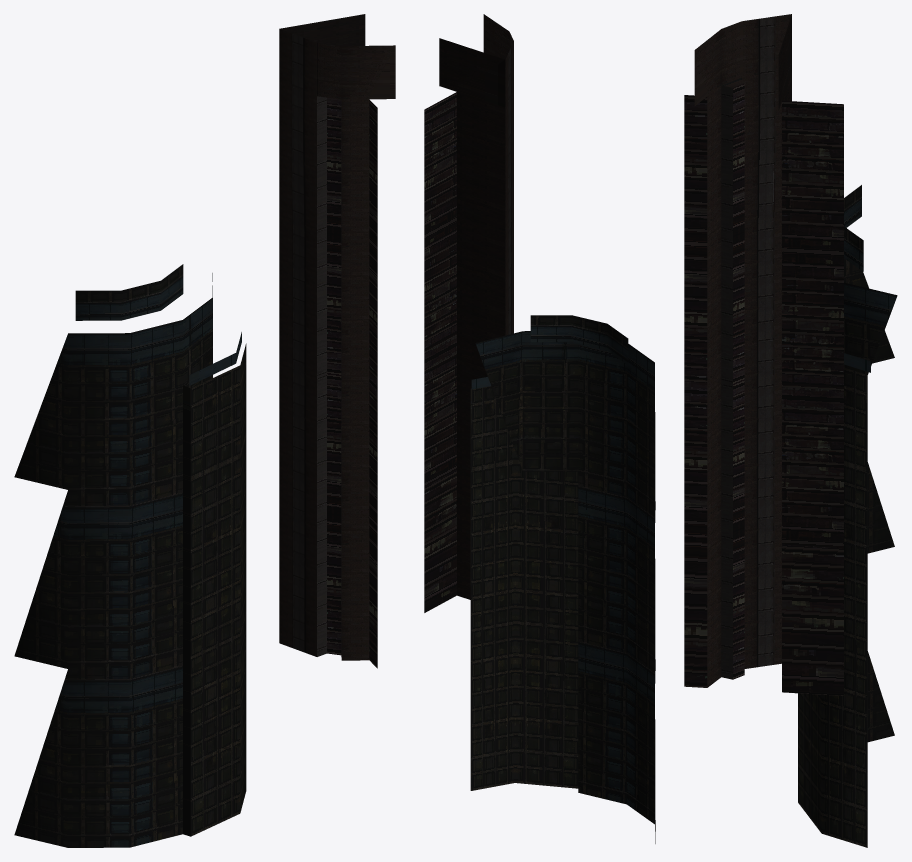
The model's file is cell_1_3.gltf.
3 renders of one model, left to right at view 1: azimuth 30°, elevation 25°; view 2: azimuth 150°, elevation 25°; view 3: azimuth 270°, elevation 25°, orthographic. The views are drawn at different scales.
Parts seen in each view (by area): view 1: cell_1_3; view 2: cell_1_3; view 3: cell_1_3.
Part boxes in pixels (<box>): cell_1_3: <box>14,14,395,847</box>; cell_1_3: <box>424,14,655,843</box>; cell_1_3: <box>684,14,897,847</box>.
Size of the model in its own units: 57.78 by 147 by 34.21.
Materials: 3 (3 with a texture image).
